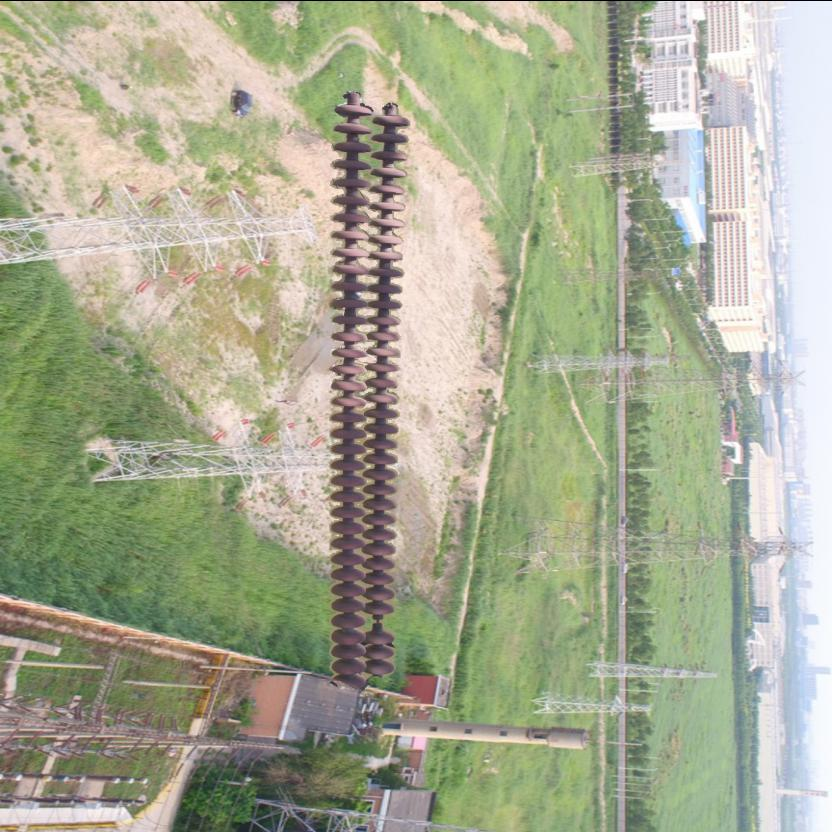defect: (365, 600, 399, 648)
